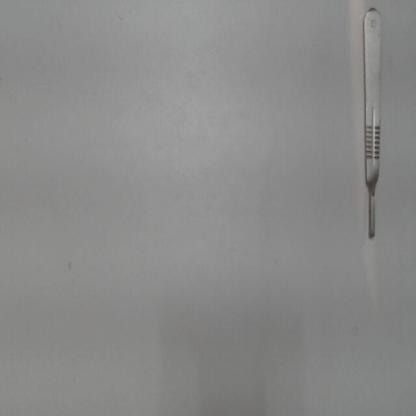No.4 BP Handle: (356, 9, 386, 245)
